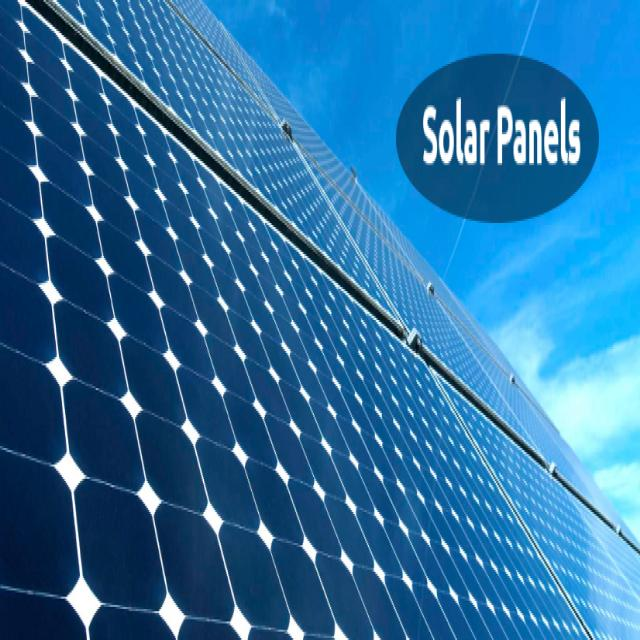clean-solar-panel: (1, 0, 640, 636)
